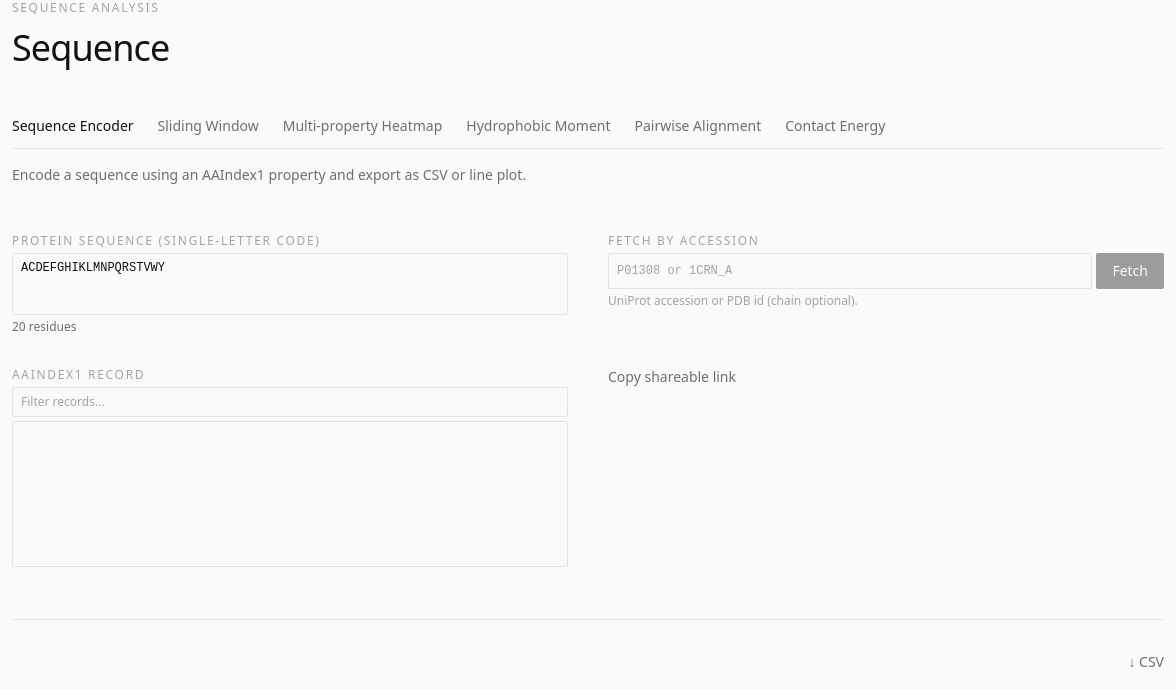
Test: SequenceAnalysis — Encoder tab › clearing the sequence shows "enter a protein sequence" prompt
This screenshot has width=1176, height=689.
Clear the text box with placeholder "e.g. ACDEFGHIKLMNPQRSTVWY" at point(290, 284), box [12,253,568,315]
(page scrolled)
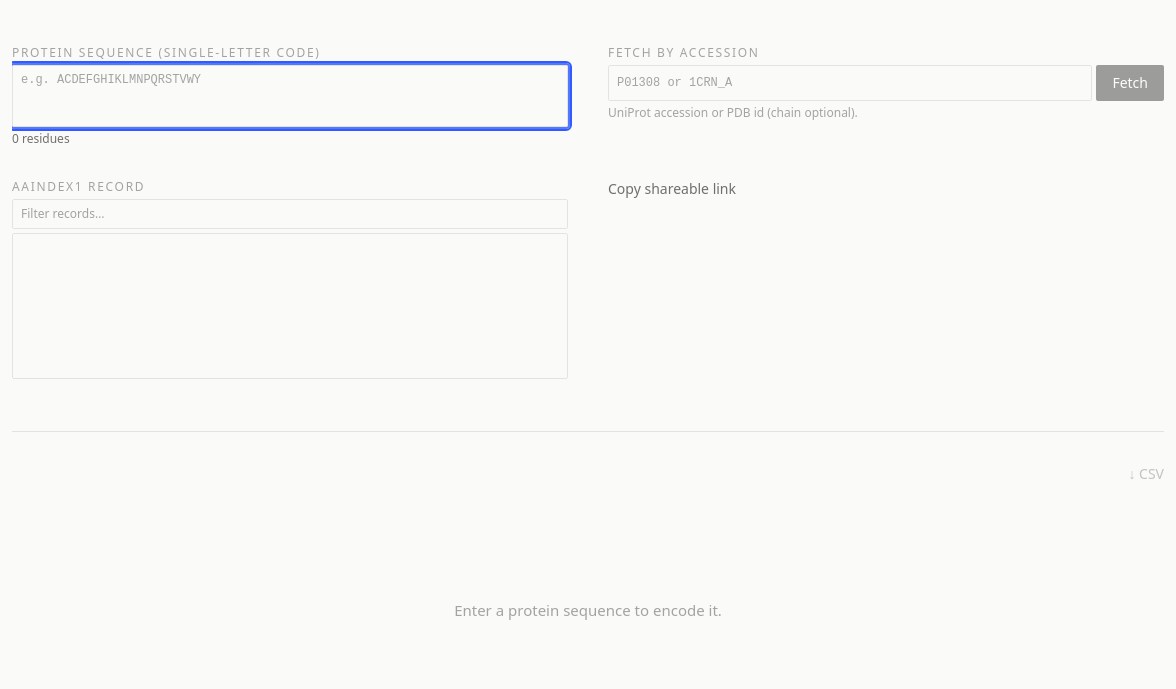
Expected: the text "Enter a protein sequence to encode it." is shown, [454,600,722,620]
